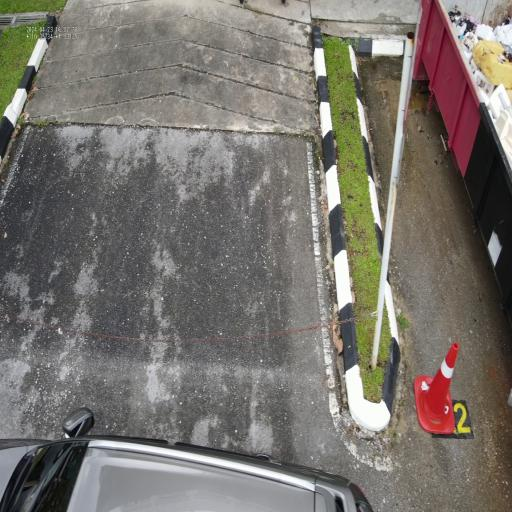Illegal: (0, 403, 377, 512)
